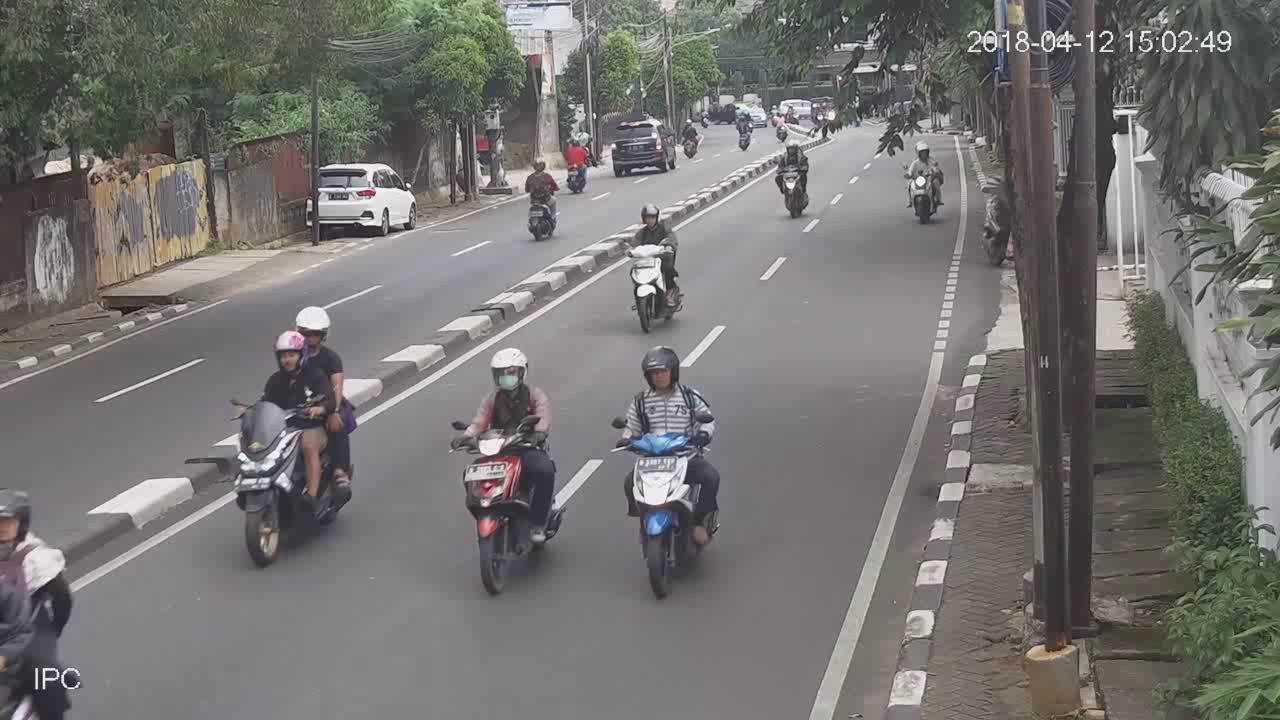car: (306, 159, 420, 239), (614, 112, 677, 177)
motorcycle: (227, 305, 362, 570), (603, 339, 727, 603), (445, 339, 566, 601), (622, 200, 687, 337), (899, 135, 947, 226), (765, 138, 816, 223), (522, 151, 561, 246), (558, 134, 591, 193)
